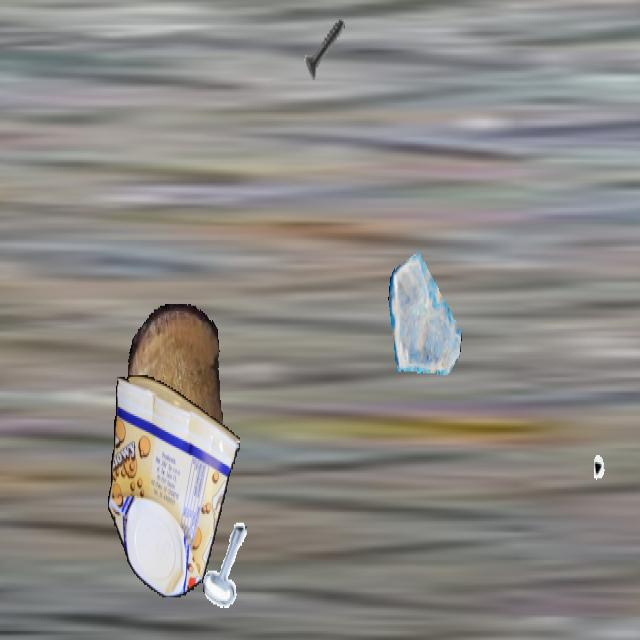glass: (388, 247, 462, 379)
metal: (594, 423, 640, 533), (299, 2, 351, 94), (202, 521, 254, 613)
plastic: (108, 375, 240, 596)
wood: (128, 304, 222, 489)
